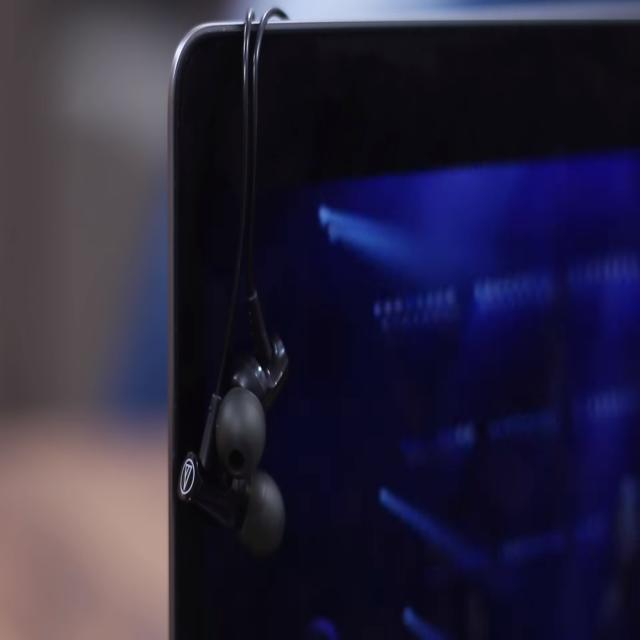Earphone: (176, 3, 290, 563)
